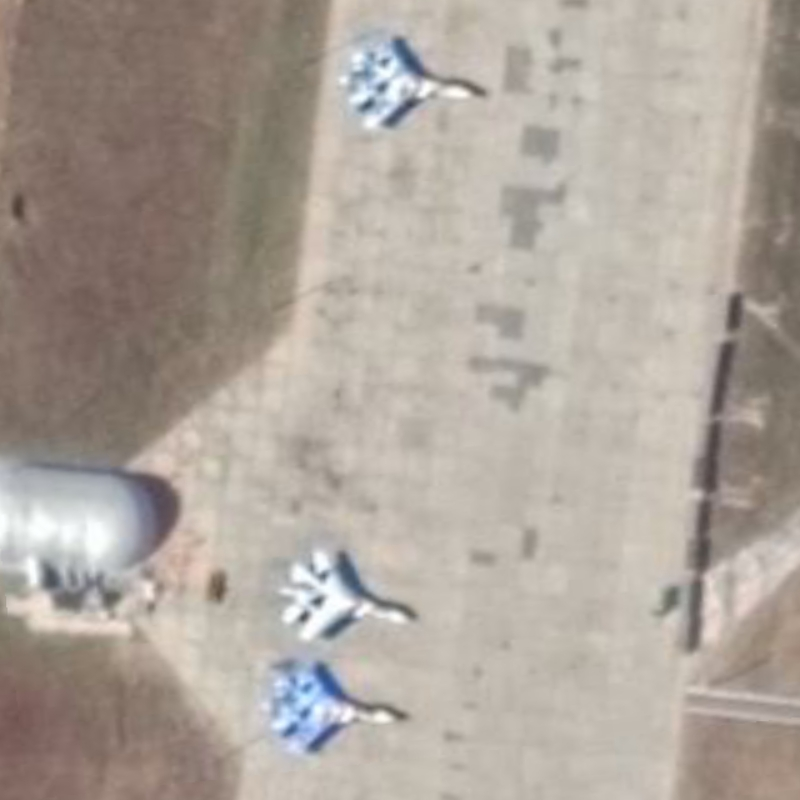A1: (259, 656, 402, 755), (336, 33, 476, 134), (277, 546, 412, 643)
